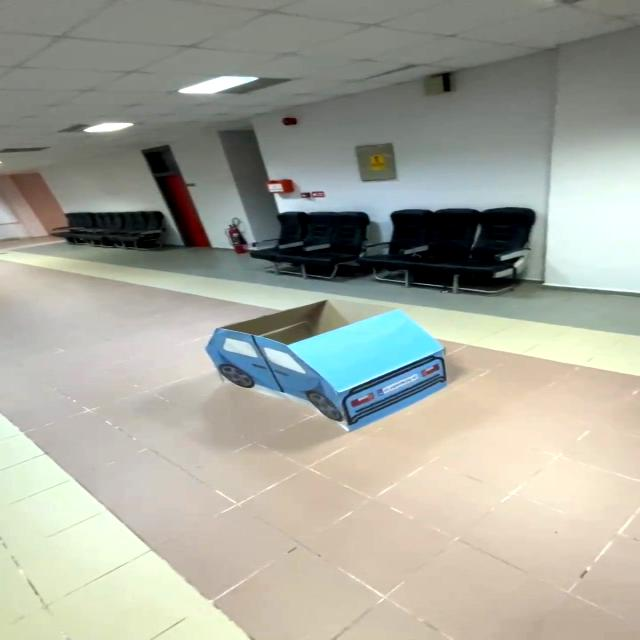blue_car: (192, 290, 458, 438)
